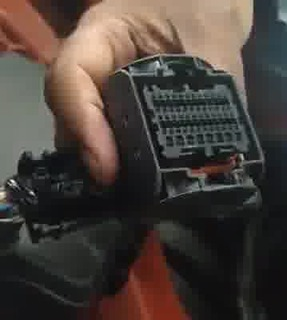connector: (101, 54, 265, 221)
